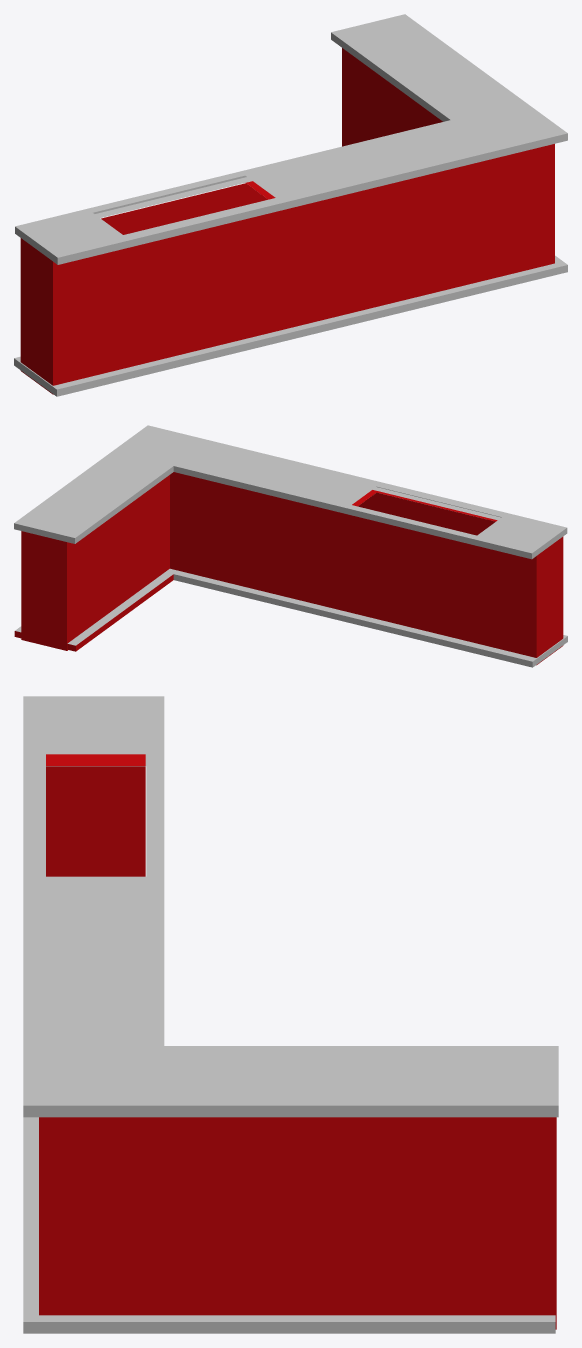
Rendered from Bar.FBX.
3 views of the same model, one above another, from view 1: azimuth 30°, elevation 25°; view 2: azimuth 150°, elevation 25°; view 3: azimuth 270°, elevation 25° (orthographic). The views are drawn at different scales.
Visible parts, largest first — view 1: Bar; view 2: Bar; view 3: Bar.
Part boxes in pixels (x1,y1,x2,y2): Bar: (14, 14, 567, 396); Bar: (14, 425, 567, 667); Bar: (23, 696, 558, 1333).
Bounding box in the file's own units: 384 × 101 × 212.
